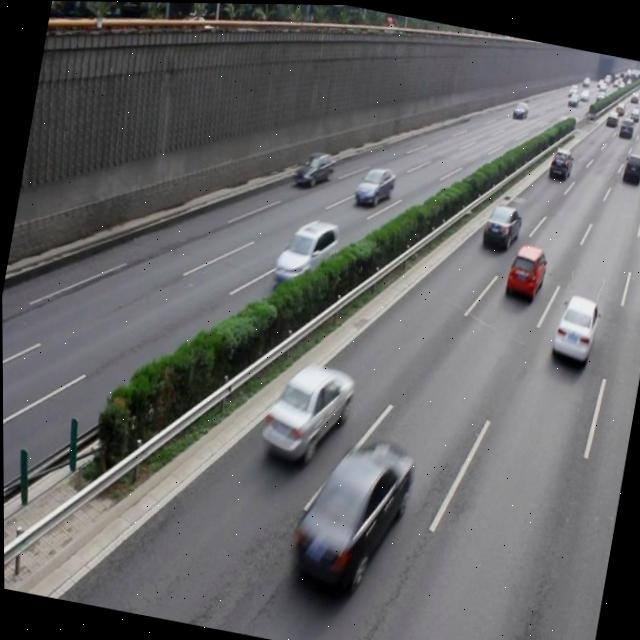car: (284, 419, 417, 593), (256, 351, 355, 468), (270, 211, 340, 286), (547, 287, 600, 361), (501, 237, 548, 302), (479, 200, 522, 250), (352, 160, 396, 207), (292, 146, 336, 192)
